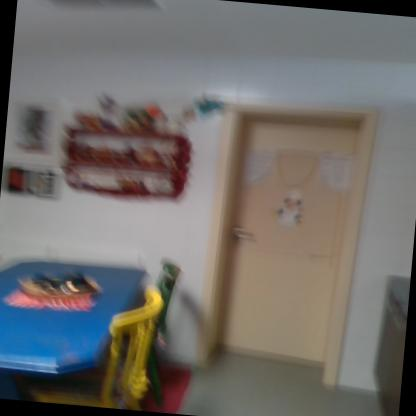closed: (188, 87, 394, 396)
